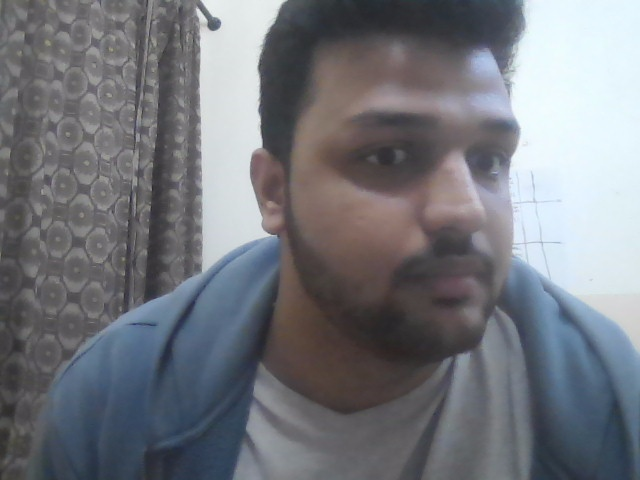awake: (225, 19, 640, 381)
